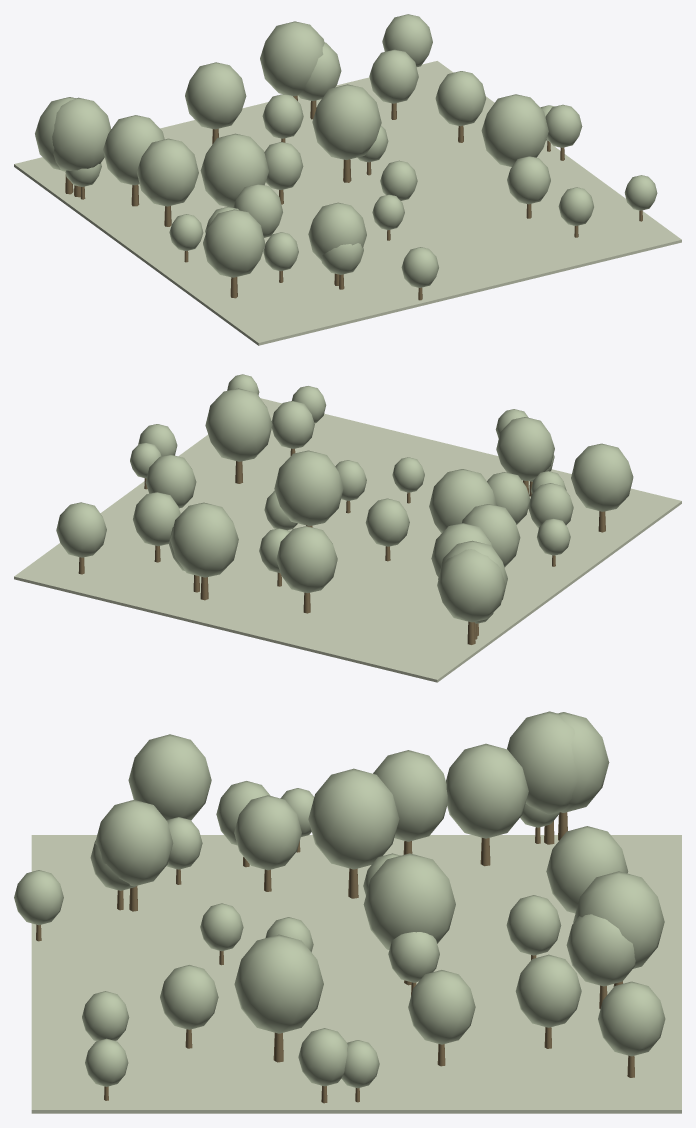
3 views of the same model, one above another, from view 1: azimuth 30°, elevation 25°; view 2: azimuth 150°, elevation 25°; view 3: azimuth 270°, elevation 25° (orthographic). The views are drawn at different scales.
Parts seen in each view (by area): view 1: terrain, lod-near-6, lod-near-21, lod-near-13, lod-near-3, lod-near-11, lod-near-2, lod-near-12, lod-near-8, lod-near-1, lod-near-9, lod-near-22 (+18 smaller); view 2: terrain, lod-near-6, lod-near-3, lod-near-14, lod-near-21, lod-near-2, lod-near-8, lod-near-9, lod-near-13, lod-near-30, lod-near-7, lod-near-12 (+15 smaller); view 3: terrain, lod-near-13, lod-near-21, lod-near-6, lod-near-1, lod-near-2, lod-near-11, lod-near-9, lod-near-3, lod-near-12, lod-near-8, lod-near-16 (+19 smaller).
Boxes of the visible parts, <box> form: terrain: <box>14,61,681,345</box>; lod-near-6: <box>312,84,381,159</box>; lod-near-21: <box>481,94,548,166</box>; lod-near-13: <box>200,133,268,207</box>; lod-near-3: <box>260,21,324,96</box>; lod-near-11: <box>52,97,111,171</box>; lod-near-2: <box>203,209,265,277</box>; lod-near-12: <box>137,138,198,206</box>; lod-near-8: <box>185,62,246,129</box>; lod-near-1: <box>103,115,164,185</box>; lod-near-9: <box>308,202,366,260</box>; lod-near-22: <box>435,71,486,126</box>; terrain: <box>14,398,681,682</box>; lod-near-6: <box>274,450,343,526</box>; lod-near-3: <box>170,502,238,577</box>; lod-near-14: <box>437,549,505,622</box>; lod-near-21: <box>205,388,272,461</box>; lod-near-2: <box>571,443,633,511</box>; lod-near-8: <box>276,526,337,593</box>; lod-near-9: <box>496,417,554,480</box>; lod-near-13: <box>429,469,497,533</box>; lod-near-30: <box>56,502,106,557</box>; lod-near-7: <box>133,492,180,546</box>; lod-near-12: <box>462,504,520,567</box>; terrain: <box>31,835,681,1113</box>; lod-near-13: <box>308,768,399,869</box>; lod-near-21: <box>234,934,323,1033</box>; lod-near-6: <box>363,853,455,949</box>; lod-near-1: <box>446,743,528,838</box>; lod-near-2: <box>128,734,211,820</box>; lod-near-11: <box>507,711,578,814</box>; lod-near-9: <box>95,799,173,886</box>; lod-near-3: <box>573,871,664,968</box>; lod-near-12: <box>373,750,447,841</box>; lod-near-8: <box>546,826,628,913</box>; lod-near-16: <box>234,795,301,870</box>.
Size of the model in its own units: 34.04 by 7.25 by 32.87.
